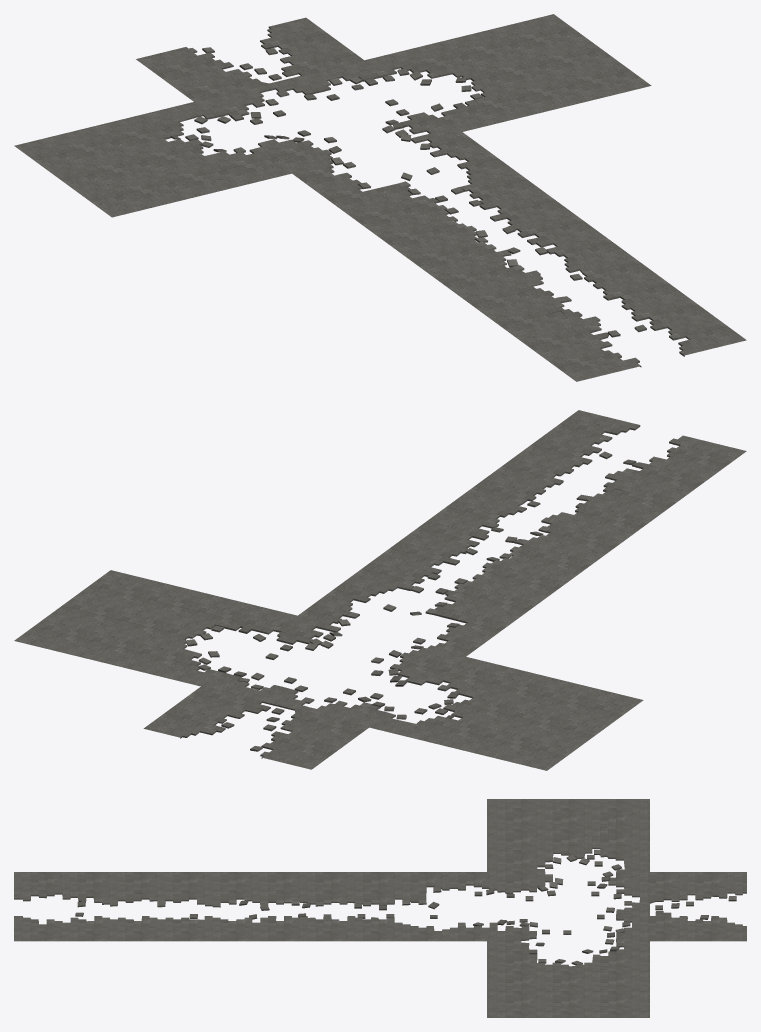
File: Dungeon_Ground_Tiles_01.FBX
3 renders of one model, top to bottom at view 1: azimuth 30°, elevation 25°; view 2: azimuth 150°, elevation 25°; view 3: azimuth 270°, elevation 25°, orthographic. The views are drawn at different scales.
Visible parts, largest first — view 1: Dungeon_Ground_Tiles_01; view 2: Dungeon_Ground_Tiles_01; view 3: Dungeon_Ground_Tiles_01.
Part boxes in pixels (bbox=[...]): Dungeon_Ground_Tiles_01: bbox=[14, 14, 746, 381]; Dungeon_Ground_Tiles_01: bbox=[14, 410, 746, 770]; Dungeon_Ground_Tiles_01: bbox=[14, 799, 746, 1017].
Bounding box in the file's own units: 40.15 × 0.4018 × 56.81.
